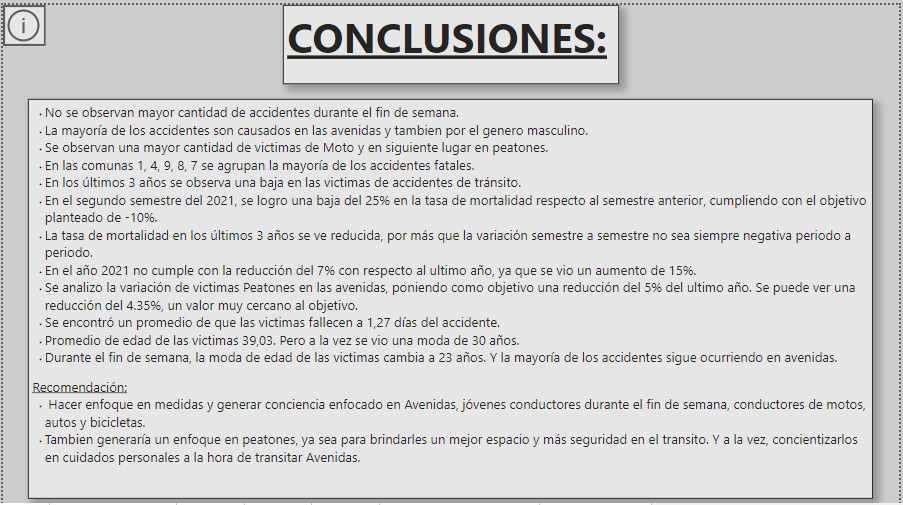

The page's visual inventory and layout, read from the dashboard file:
{"tool":"powerbi","page":{"name":"Conclusiones","canvas":[1280,720],"ordinal":6},"visuals":[{"type":"textbox","box":[400,0,480,112.9],"z":0},{"type":"actionButton","box":[0,0,61.4,58.6],"z":1},{"type":"textbox","box":[35.7,134.3,1207.1,571.4],"z":2}]}

Visuals, with their boxes in screenshot pixels (x1, y1, x2, y2), scaled from the page's 1280x720 canvas onto the 903x505 screenshot:
textbox: (282,0,621,79)
actionButton: (0,0,43,41)
textbox: (25,94,877,495)
